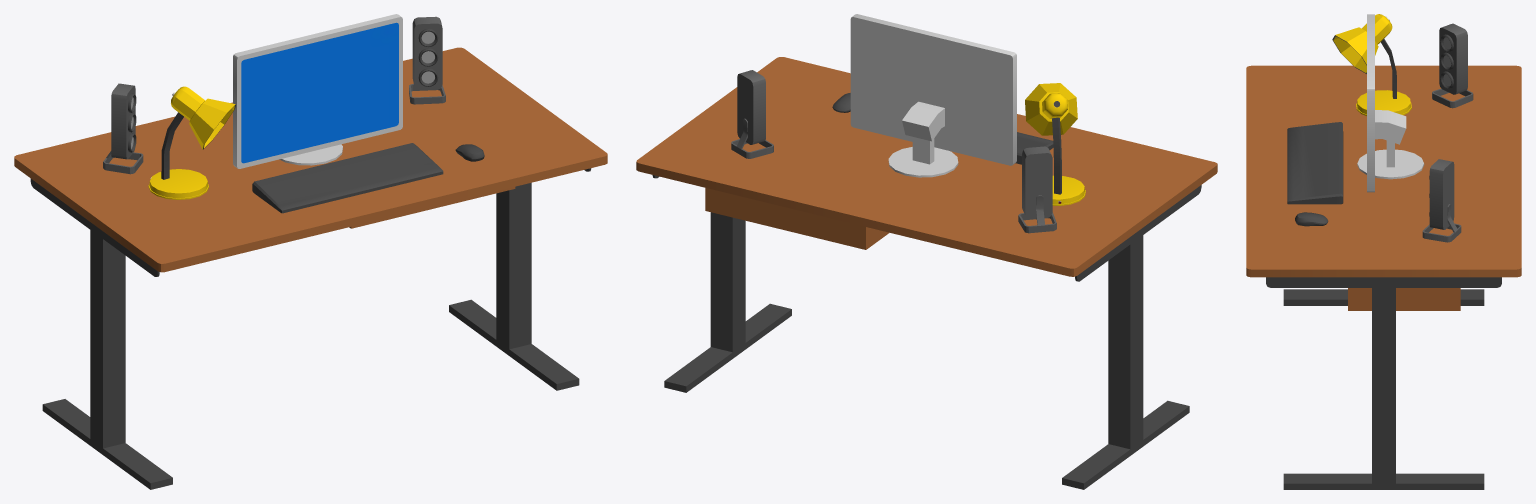
The model's file is Computer table.fbx.
3 renders of one model, left to right at view 1: azimuth 30°, elevation 25°; view 2: azimuth 150°, elevation 25°; view 3: azimuth 270°, elevation 25°, orthographic. The views are drawn at different scales.
Visible parts, largest first — view 1: Computer Table; view 2: Computer Table; view 3: Computer Table.
Boxes of the visible parts, x1,y1,x2,y2 form: Computer Table: [14, 14, 607, 489]; Computer Table: [636, 14, 1217, 489]; Computer Table: [1246, 14, 1521, 489].
Size of the model in its own units: 148 by 116 by 84.38.
